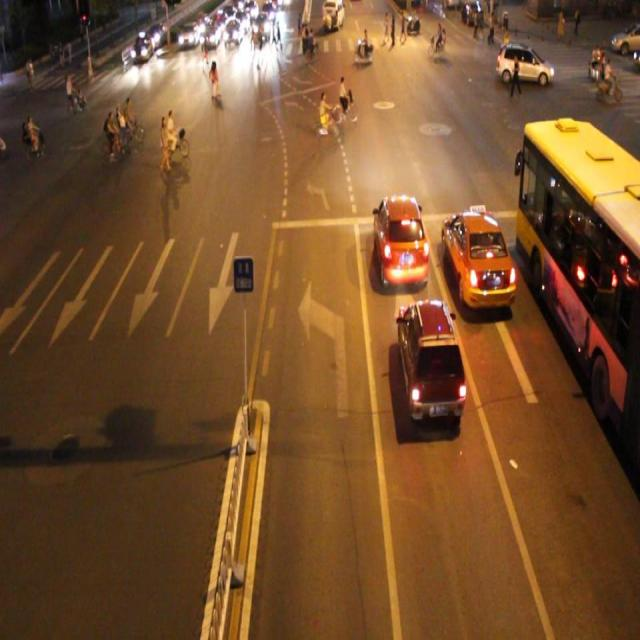car: (395, 297, 466, 422), (440, 204, 518, 308), (373, 192, 429, 288)
van: (513, 119, 640, 456)
